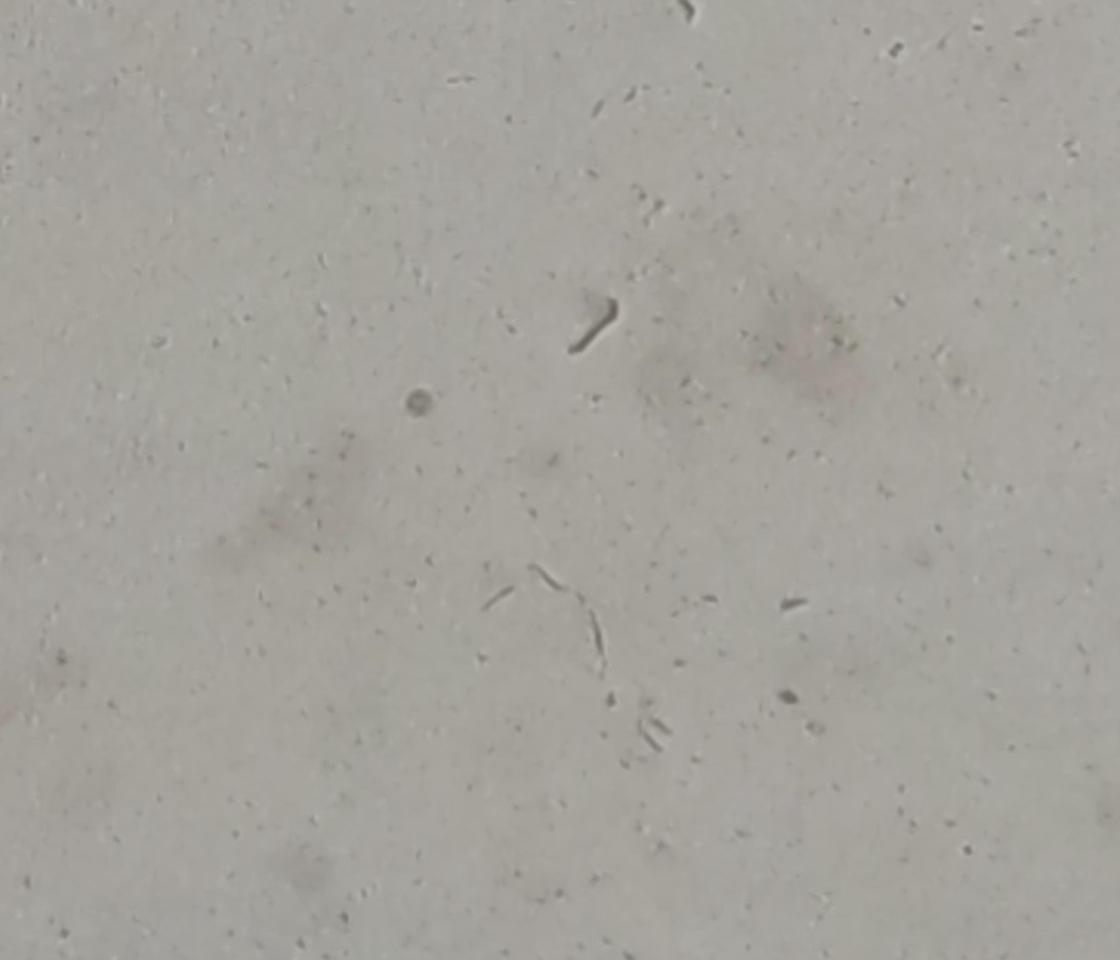scratch: (560, 293, 628, 358), (528, 552, 564, 596), (584, 611, 607, 673), (479, 582, 520, 614)
